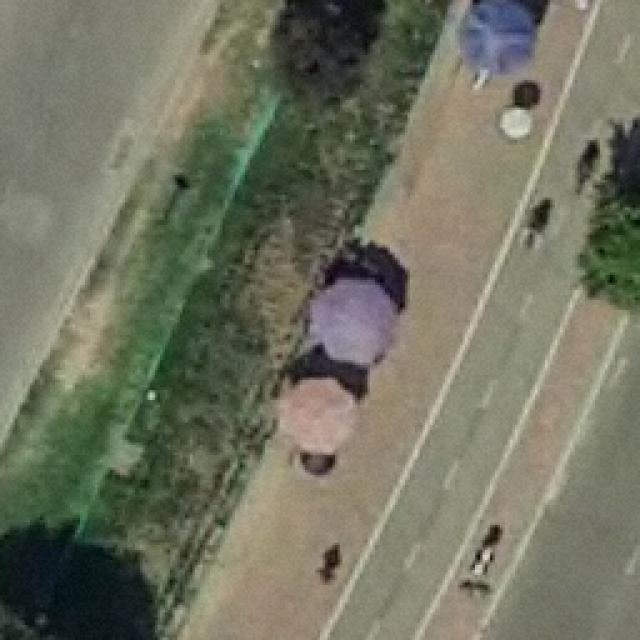vendedor_ambulante: (308, 270, 404, 370), (277, 375, 362, 458), (453, 0, 539, 78)
